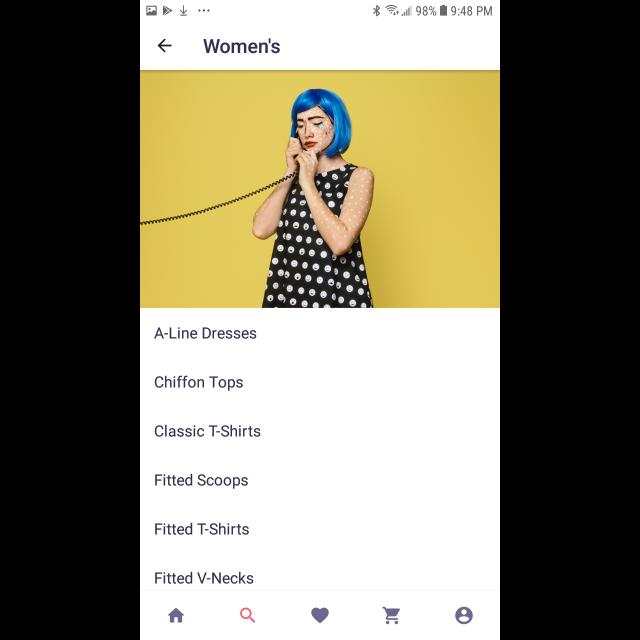icon: (455, 606, 473, 624), (383, 606, 401, 624), (311, 607, 329, 623), (168, 608, 184, 624), (240, 608, 256, 622), (158, 39, 172, 53)
image: (140, 71, 500, 309)
text: (155, 424, 261, 438), (156, 473, 248, 489), (155, 375, 243, 391), (155, 522, 249, 536), (154, 327, 258, 339), (203, 38, 280, 54), (154, 572, 253, 584)
uppertaskbar: (140, 1, 500, 18)
